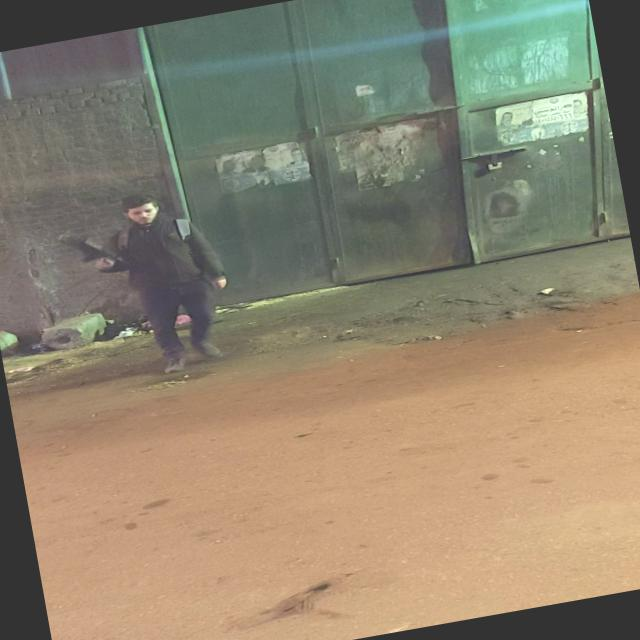long weapon: (33, 212, 150, 292)
